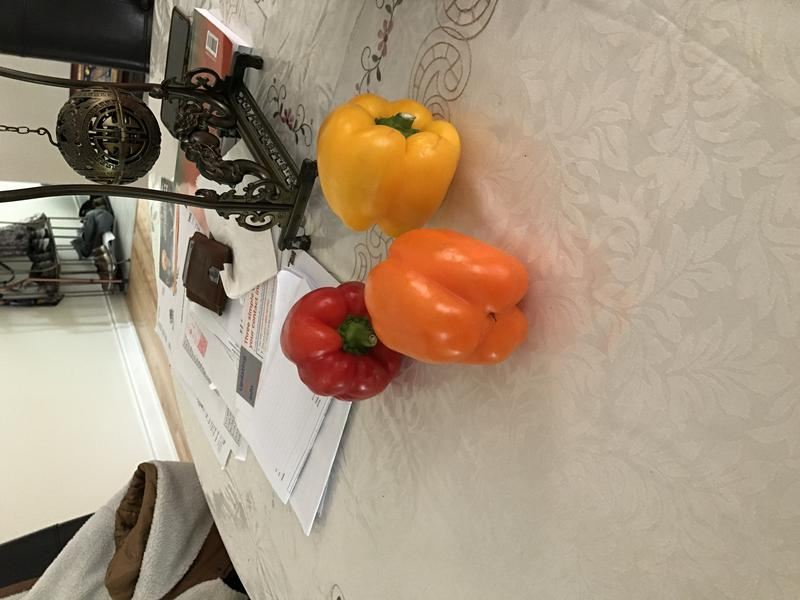orange_pepper: (362, 223, 541, 375)
red_pepper: (272, 272, 412, 407)
yellow_pepper: (313, 90, 472, 248)
